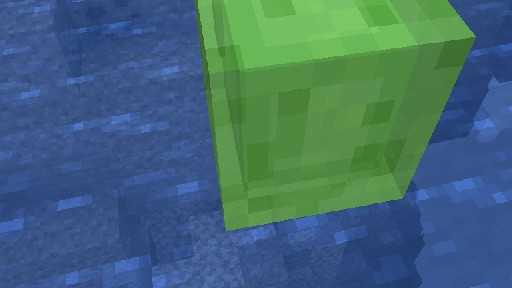slime: (185, 0, 476, 231)
